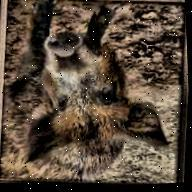boar: (0, 0, 180, 192)
